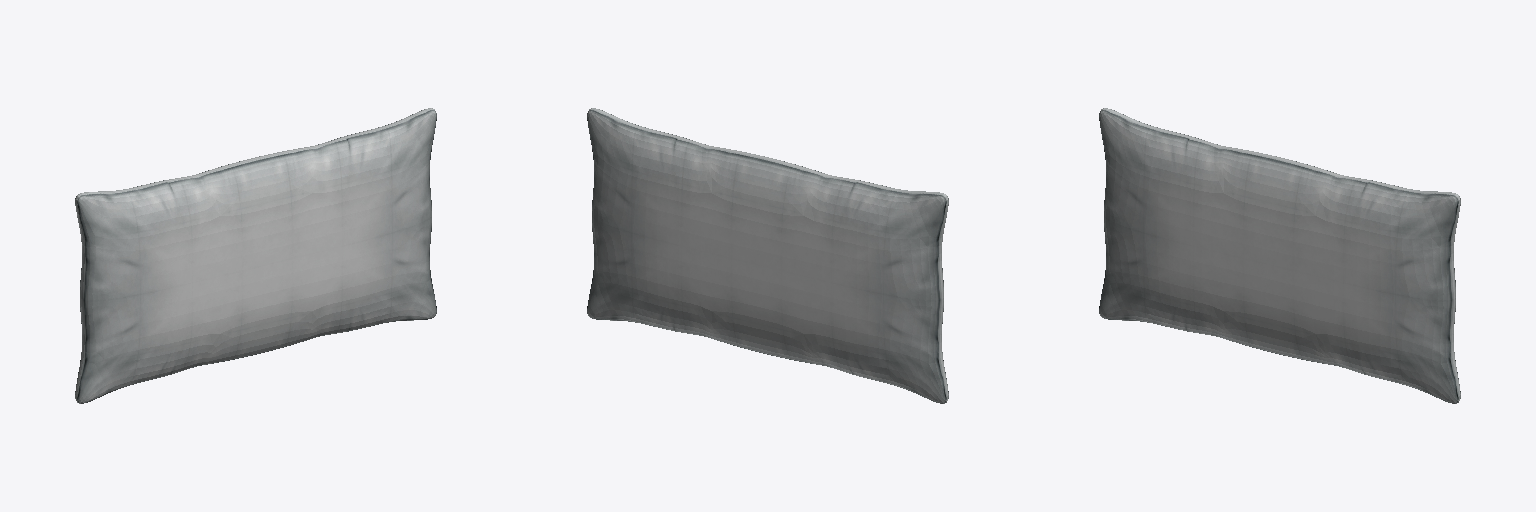
The picture shows the model from 3 angles: view 1: azimuth 30°, elevation 25°; view 2: azimuth 150°, elevation 25°; view 3: azimuth 330°, elevation 25°; orthographic projection.
Visible parts, largest first — view 1: 10217_Bed_Pillow_v1; view 2: 10217_Bed_Pillow_v1; view 3: 10217_Bed_Pillow_v1.
Boxes of the visible parts, <box> form: 10217_Bed_Pillow_v1: <box>75,108,436,403</box>; 10217_Bed_Pillow_v1: <box>587,108,948,403</box>; 10217_Bed_Pillow_v1: <box>1099,108,1460,403</box>.
Bounding box in the file's own units: 89.31 × 49.75 × 10.
1 materials, 1 textured.